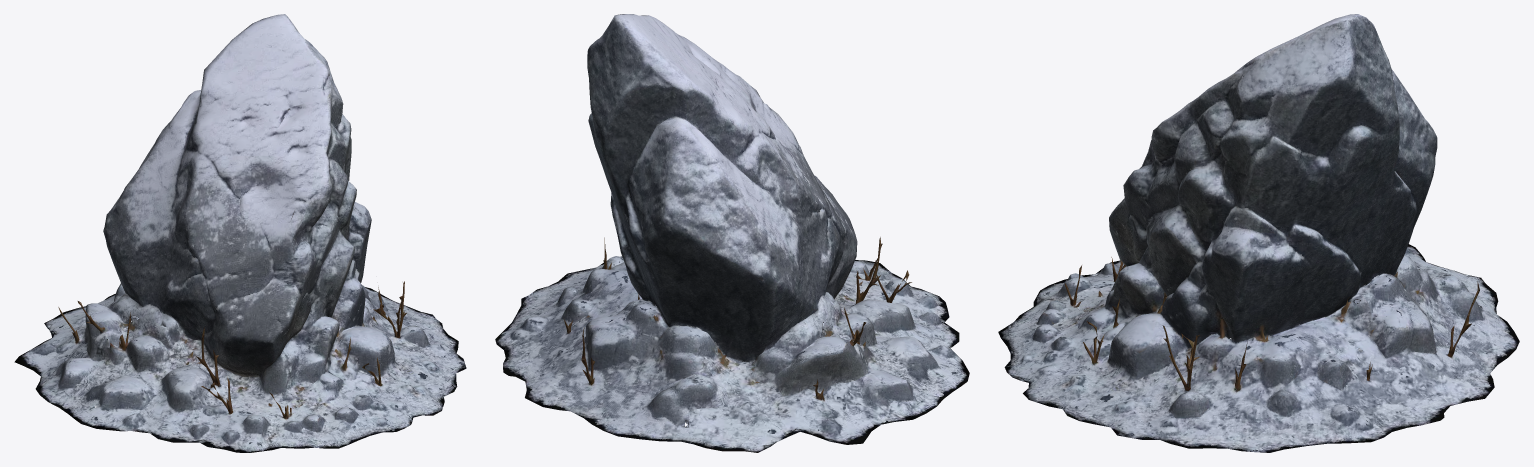
The model's file is snow-big-rock-1.glb.
3 renders of one model, left to right at view 1: azimuth 30°, elevation 25°; view 2: azimuth 150°, elevation 25°; view 3: azimuth 270°, elevation 25°, orthographic. The views are drawn at different scales.
Visible parts, largest first — view 1: geometry_0; view 2: geometry_0; view 3: geometry_0.
Part boxes in pixels (box(x1,y1,x2,y2)): geometry_0: box(14, 14, 466, 452); geometry_0: box(495, 14, 969, 452); geometry_0: box(998, 14, 1519, 452).
Bounding box in the file's own units: 0.967 × 0.7531 × 0.9654.
Materials: 1 (1 with a texture image).
